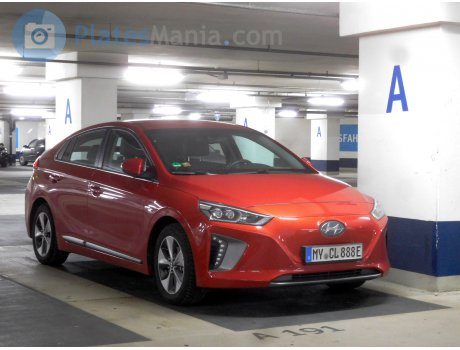License Plates: (312, 244, 360, 255)
